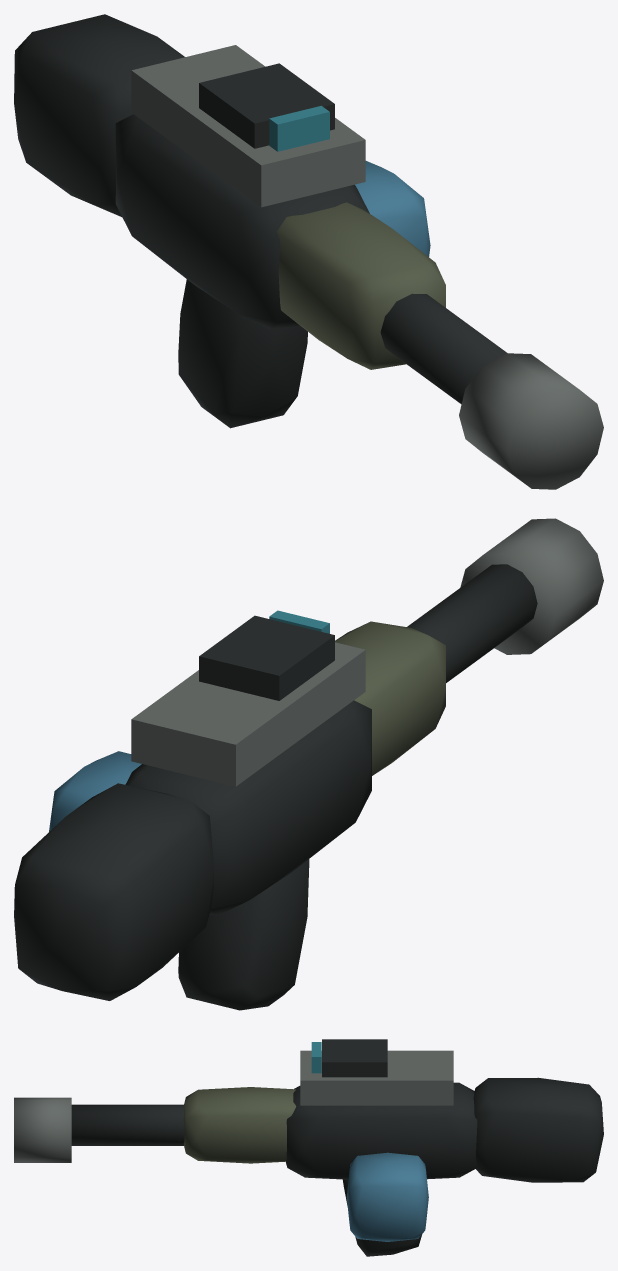
File: Bastion_Gunner_Weapon.obj
3 views of the same model, one above another, from view 1: azimuth 30°, elevation 25°; view 2: azimuth 150°, elevation 25°; view 3: azimuth 270°, elevation 25° (orthographic). The views are drawn at different scales.
Visible parts, largest first — view 1: Receiver, Stock, Handguard, TopCover, MuzzleBrake, Magazine, Barrel, OpticBase, AmmoBox, OpticGlass; view 2: Stock, Receiver, TopCover, Magazine, Handguard, MuzzleBrake, OpticBase, Barrel, AmmoBox, OpticGlass; view 3: Receiver, Stock, Handguard, TopCover, AmmoBox, Barrel, MuzzleBrake, OpticBase, Magazine, OpticGlass.
Boxes of the visible parts, x1=… form: Receiver: x1=115, y1=114, x2=369, y2=329; Stock: x1=14, y1=14, x2=184, y2=216; Handguard: x1=277, y1=202, x2=445, y2=369; TopCover: x1=131, y1=45, x2=365, y2=207; MuzzleBrake: x1=459, y1=353, x2=603, y2=489; Magazine: x1=178, y1=279, x2=307, y2=428; Barrel: x1=380, y1=293, x2=507, y2=404; OpticBase: x1=199, y1=63, x2=334, y2=148; AmmoBox: x1=355, y1=161, x2=430, y2=256; OpticGlass: x1=269, y1=105, x2=329, y2=151; Stock: x1=14, y1=783, x2=213, y2=1000; Receiver: x1=125, y1=700, x2=371, y2=915; TopCover: x1=131, y1=642, x2=365, y2=786; Magazine: x1=178, y1=859, x2=309, y2=1010; Handguard: x1=335, y1=621, x2=445, y2=775; MuzzleBrake: x1=460, y1=518, x2=603, y2=654; OpticBase: x1=199, y1=615, x2=334, y2=700; Barrel: x1=407, y1=564, x2=537, y2=682; AmmoBox: x1=49, y1=751, x2=141, y2=831; OpticGlass: x1=269, y1=610, x2=329, y2=633; Receiver: x1=285, y1=1082, x2=477, y2=1179; Stock: x1=473, y1=1077, x2=603, y2=1182; Handguard: x1=183, y1=1087, x2=296, y2=1163; TopCover: x1=300, y1=1050, x2=453, y2=1105; AmmoBox: x1=346, y1=1152, x2=428, y2=1241; Barrel: x1=71, y1=1104, x2=184, y2=1145; MuzzleBrake: x1=14, y1=1097, x2=71, y2=1162; OpticBase: x1=322, y1=1039, x2=387, y2=1077; Magazine: x1=342, y1=1179, x2=421, y2=1256; OpticGlass: x1=311, y1=1042, x2=321, y2=1073.
Size of the model in its own units: 0.29 by 0.4018 by 1.08.
1 material, 1 textured.
